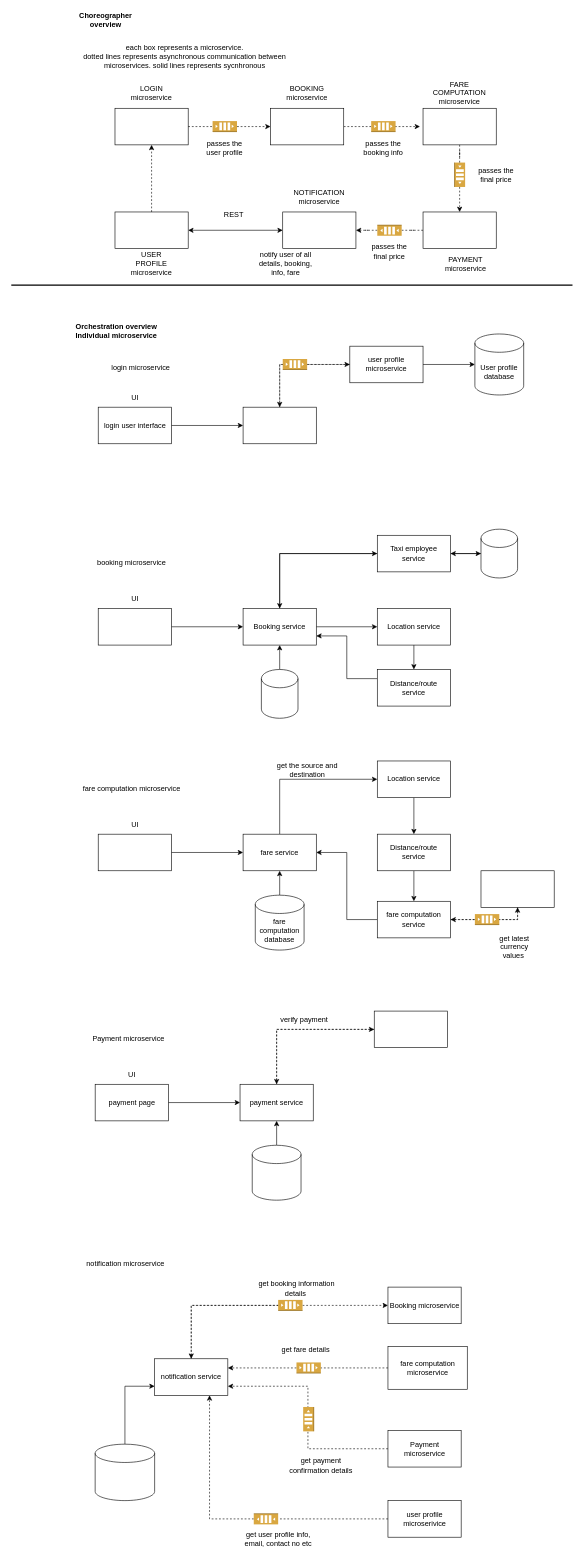
The diagram is 584 pixels wide and 1558 high, and some of its shapes have lost their labels. Here are the shapes that lost their labels. From the top down, the centre of each, then its label:
At pixel 279 425: "login service".
At pixel 499 553: "Employee database".
At pixel 134 626: "booking page".
At pixel 279 693: "Booking database".
At pixel 134 852: "fare computation page".
At pixel 517 888: "Currency API".
At pixel 410 1029: "online banking API".
At pixel 276 1172: "payment database".
At pixel 125 1472: "notification database".
